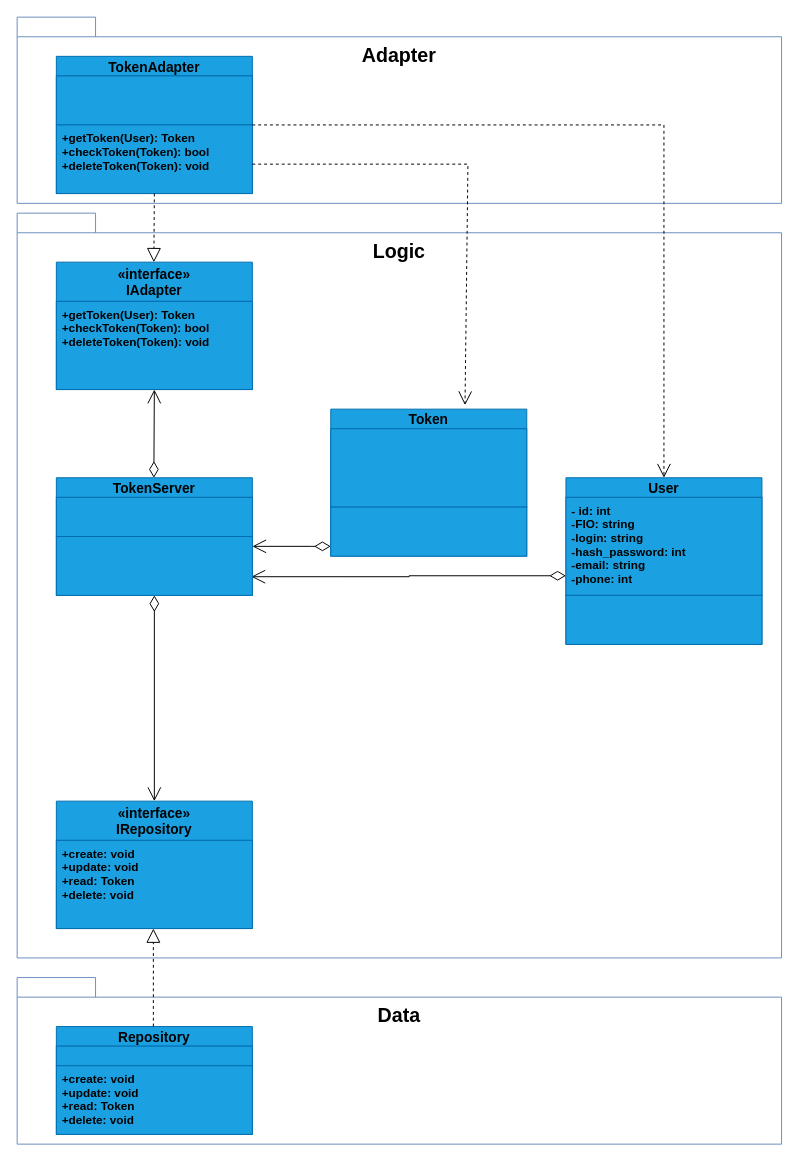
The diagram is 799 pixels wide and 1161 high, and some of its shapes have lost their labels. The centre of each missing label's shape, as x and y in pixels:
+adapter: IAdapter +repository: IRepositiry: [153,516]
+createIAdapter: void +createIRepository: void: [153,565]
+getToken: Token +setToken: void: [428,531]
+setUser: void +getUser: User: [663,619]
- id: int -obj: string: [428,467]
-token: Token: [153,1055]
-user: User -token: Token: [153,100]
